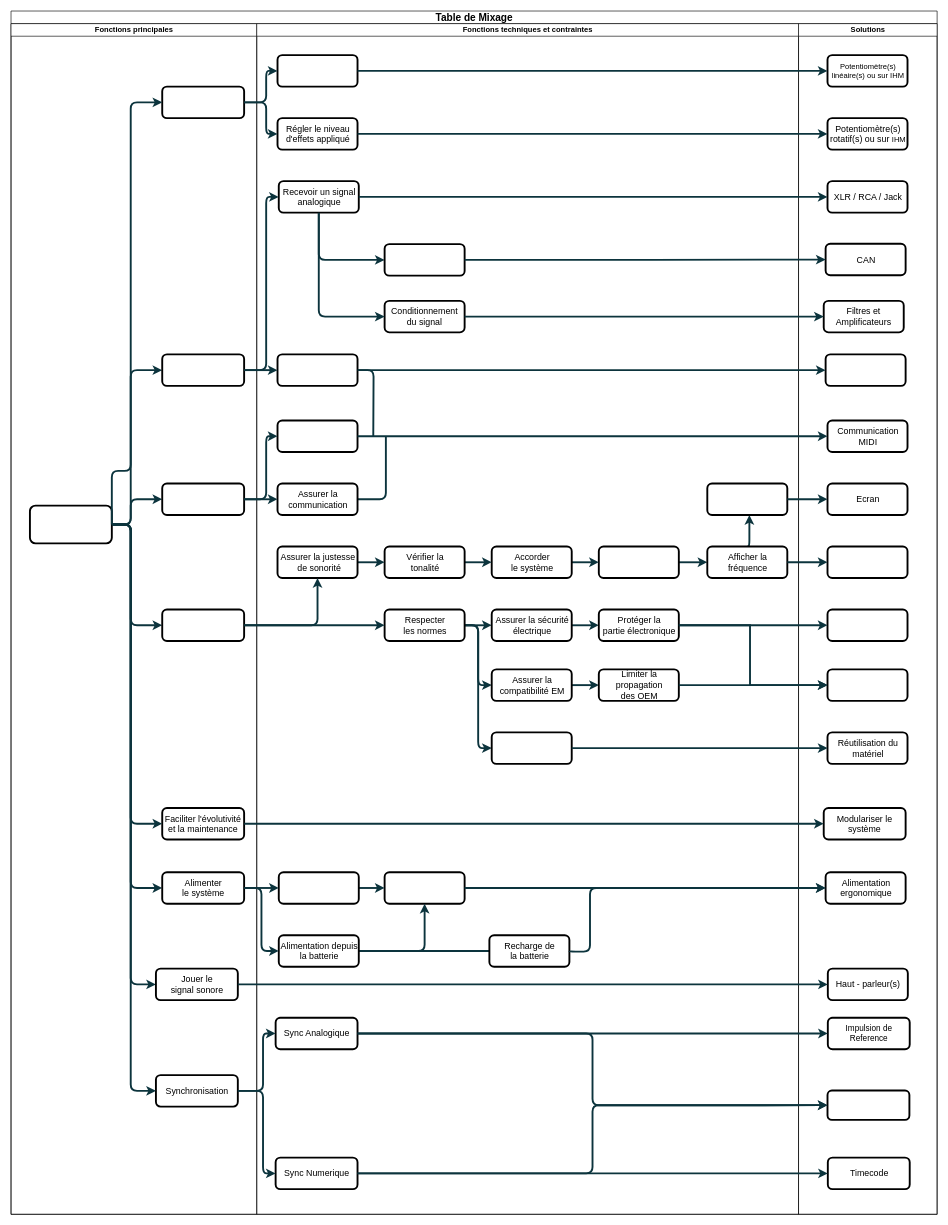
Some shapes in this 948 by 1225 pixel diagram are drawn without their labels. Here are the shapes that lost their labels. From the top down, the centre of each, then its label:
At (317,70): "Régler le volume d'instruments".
At (203,102): "Mixer l'audio".
At (424,259): "Convertir en format unifié".
At (203,370): "Connecter les instruments".
At (317,370): "Recevoir un signal numérique".
At (865,370): "Port(s) USB".
At (317,436): "Synchronisation sur l'horloge".
At (203,499): "Recevoir les données".
At (747,499): "Avoir une interface visuelle".
At (70,524): "Contrôler les instruments musicaux".
At (638,562): "Mesurer la fréquence".
At (867,562): "Vumètre".
At (203,625): "Assurer la sureté du système".
At (867,625): "Boite close".
At (867,685): "Intégration électronique réfléchie".
At (531,748): "Respecter l'environnement".
At (318,887): "Alimentation depuis le secteur".
At (424,887): "Dimensionnement de l'alimentation".
At (868,1104): "Signal de Demarage / Callibration au demarage".
